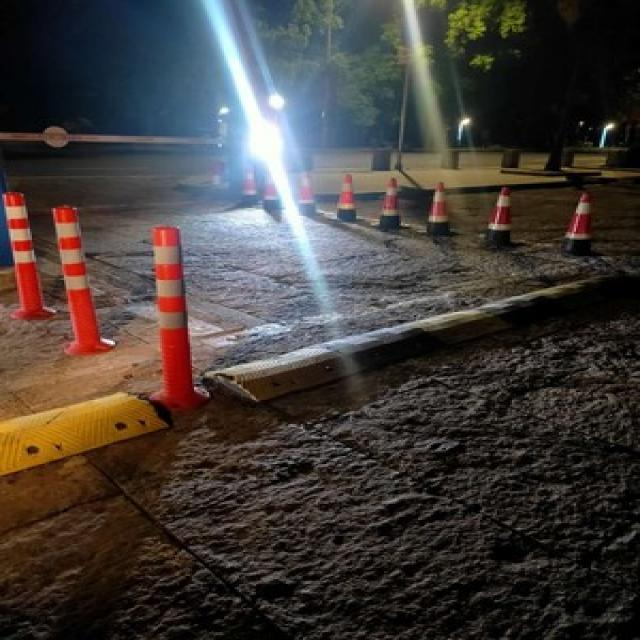reflective_cone: (550, 190, 598, 256), (476, 182, 520, 245), (369, 175, 412, 228), (420, 180, 454, 233), (326, 171, 361, 219), (290, 168, 324, 214), (254, 164, 284, 210), (233, 160, 260, 205)
warning_column: (141, 224, 209, 408), (45, 203, 111, 354), (2, 190, 51, 320)
